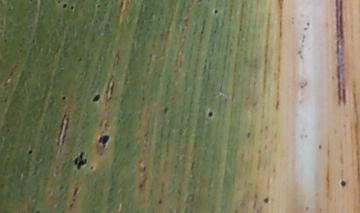tarspot: (72, 150, 88, 171), (96, 133, 111, 149), (90, 92, 101, 104), (71, 185, 80, 197), (211, 6, 220, 17), (161, 104, 170, 115), (338, 179, 348, 188), (206, 109, 214, 120), (67, 201, 75, 212), (262, 195, 270, 205), (316, 142, 324, 152), (156, 197, 164, 206), (245, 130, 252, 140), (75, 56, 85, 63), (26, 148, 34, 156), (61, 2, 68, 11), (304, 20, 312, 27), (30, 37, 37, 45), (3, 96, 9, 105), (60, 94, 67, 101), (69, 4, 76, 11), (88, 164, 95, 171), (95, 3, 101, 10), (33, 208, 41, 213), (55, 1, 63, 5)
